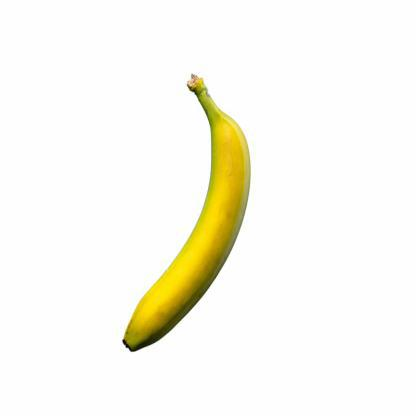banana: (110, 56, 271, 366)
